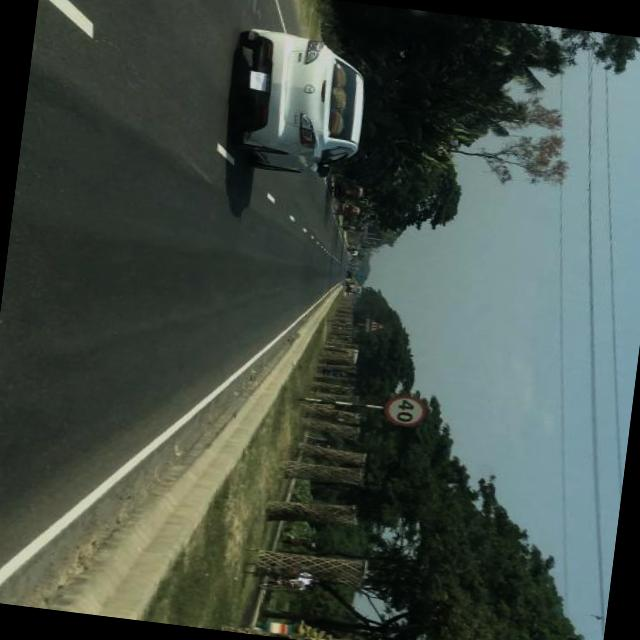car: (222, 24, 377, 181)
motorcycle: (259, 569, 321, 596), (328, 178, 366, 202), (334, 200, 363, 217)
truck: (345, 268, 364, 279), (346, 282, 362, 293)
